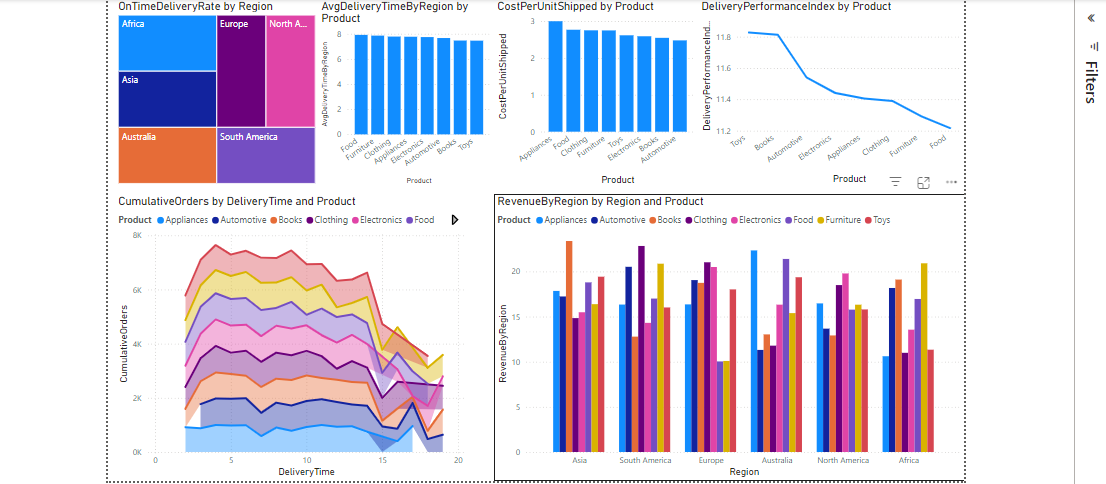

The page's visual inventory and layout, read from the dashboard file:
{"tool":"powerbi","page":{"name":"Page 1","canvas":[1280,720],"ordinal":0},"visuals":[{"type":"treemap","fields":{"Group":["supply_chain_data.Region"],"Values":["supply_chain_data.OnTimeDeliveryRate"]},"box":[10.1,0,304,280.5],"z":0},{"type":"clusteredColumnChart","fields":{"Y":["supply_chain_data.AvgDeliveryTimeByRegion"],"Category":["supply_chain_data.Product"]},"box":[314.1,0,262,282.2],"z":1},{"type":"clusteredColumnChart","fields":{"Y":["supply_chain_data.CostPerUnitShipped"],"Category":["supply_chain_data.Product"]},"box":[576.2,0,304,282.2],"z":2},{"type":"lineChart","fields":{"Category":["supply_chain_data.Product"],"Y":["supply_chain_data.DeliveryPerformanceIndex"]},"box":[881.3,0,398.8,280.8],"z":3},{"type":"stackedAreaChart","fields":{"Category":["supply_chain_data.DeliveryTime"],"Y":["supply_chain_data.CumulativeOrders"],"Series":["supply_chain_data.Product"]},"box":[10.5,291.3,527.3,428.7],"z":4},{"type":"clusteredColumnChart","fields":{"Y":["supply_chain_data.RevenueByRegion"],"Category":["supply_chain_data.Region"],"Series":["supply_chain_data.Product"]},"box":[576.6,291.3,703.6,428.7],"z":5}]}

Visuals, with their boxes in screenshot pixels (x1, y1, x2, y2):
treemap - supply_chain_data.Region x supply_chain_data.OnTimeDeliveryRate: <bbox>263, 0, 465, 186</bbox>
clusteredColumnChart - supply_chain_data.AvgDeliveryTimeByRegion x supply_chain_data.Product: <bbox>465, 0, 638, 187</bbox>
clusteredColumnChart - supply_chain_data.CostPerUnitShipped x supply_chain_data.Product: <bbox>638, 0, 840, 187</bbox>
lineChart - supply_chain_data.Product x supply_chain_data.DeliveryPerformanceIndex: <bbox>840, 0, 1105, 186</bbox>
stackedAreaChart - supply_chain_data.DeliveryTime x supply_chain_data.CumulativeOrders: <bbox>263, 193, 613, 477</bbox>
clusteredColumnChart - supply_chain_data.RevenueByRegion x supply_chain_data.Region: <bbox>638, 193, 1105, 477</bbox>
